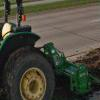Tractor: (2, 14, 100, 100)
